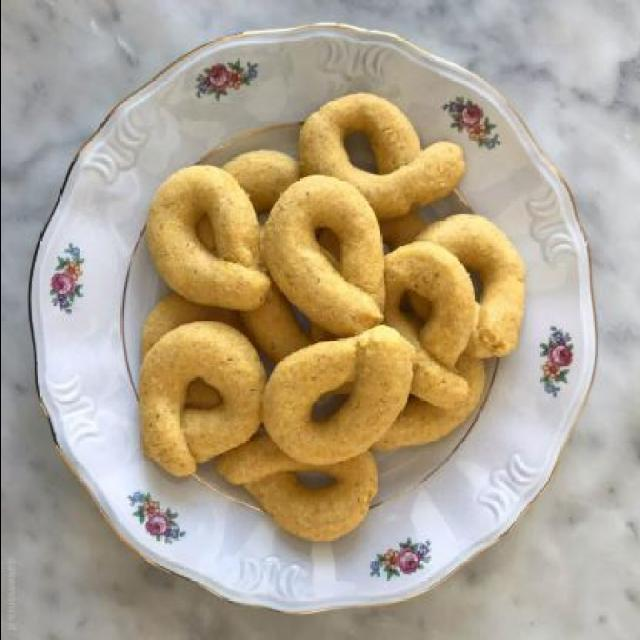Taralli: (141, 89, 528, 543)
